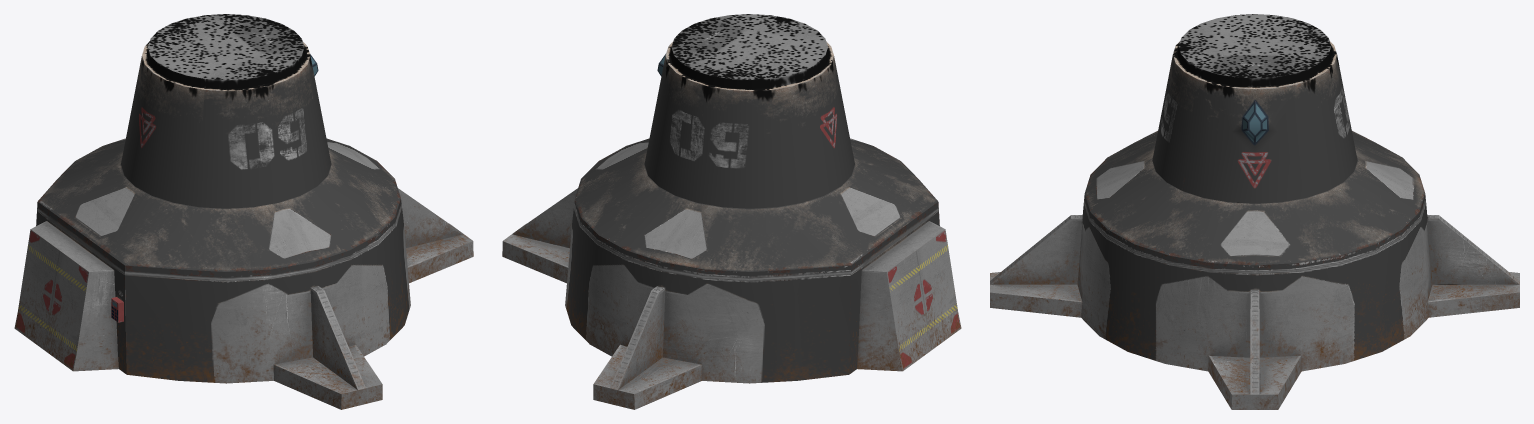
Rendered from AntiTankTurret_Body.fbx.
3 renders of one model, left to right at view 1: azimuth 30°, elevation 25°; view 2: azimuth 150°, elevation 25°; view 3: azimuth 270°, elevation 25°, orthographic. The views are drawn at different scales.
Visible parts, largest first — view 1: SM_AntiTankTurret_Body; view 2: SM_AntiTankTurret_Body; view 3: SM_AntiTankTurret_Body.
Part boxes in pixels (box(x1,y1,x2,y2)): SM_AntiTankTurret_Body: box(14, 14, 473, 409); SM_AntiTankTurret_Body: box(502, 14, 961, 409); SM_AntiTankTurret_Body: box(990, 14, 1519, 409).
Bounding box in the file's own units: 522 × 589 × 309.
